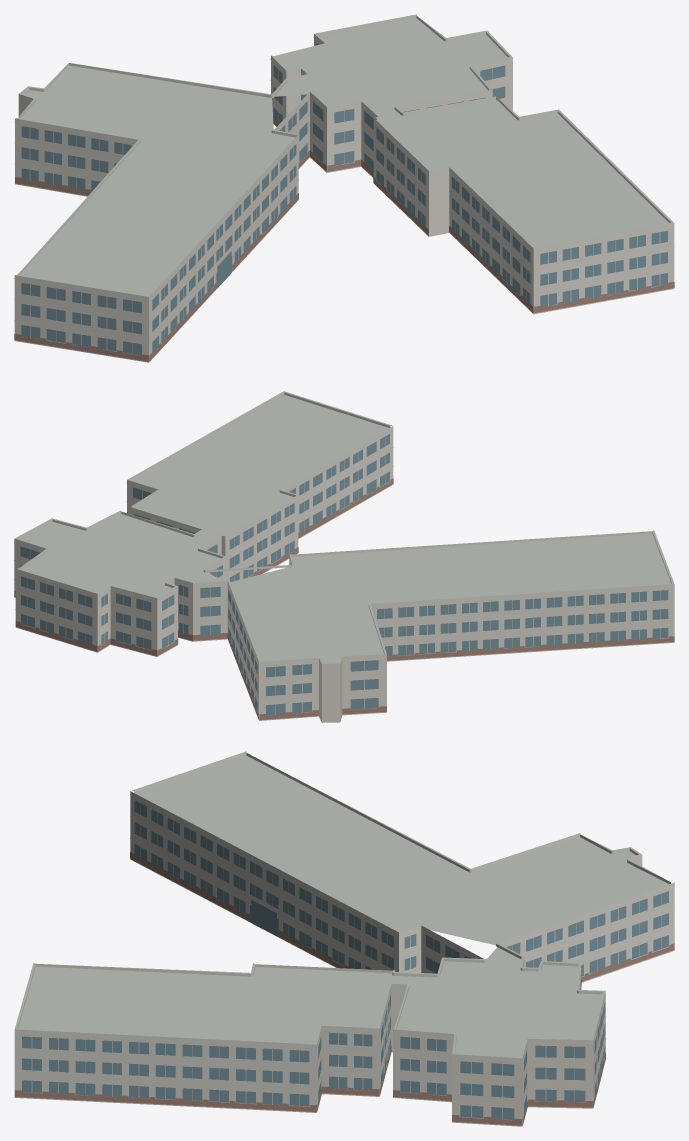
The model's file is public-58f79a30-acaa-421a-bfc8-a2db0f38cf02.glb.
3 views of the same model, one above another, from view 1: azimuth 30°, elevation 25°; view 2: azimuth 150°, elevation 25°; view 3: azimuth 270°, elevation 25° (orthographic). The views are drawn at different scales.
Parts seen in each view (by area): view 1: public-58f79a30-acaa-421a-bfc8-a2db0f38cf02; view 2: public-58f79a30-acaa-421a-bfc8-a2db0f38cf02; view 3: public-58f79a30-acaa-421a-bfc8-a2db0f38cf02.
Part boxes in pixels (left/top/right/bottom): public-58f79a30-acaa-421a-bfc8-a2db0f38cf02: left=14, top=14, right=674, bottom=362; public-58f79a30-acaa-421a-bfc8-a2db0f38cf02: left=14, top=391, right=674, bottom=722; public-58f79a30-acaa-421a-bfc8-a2db0f38cf02: left=14, top=751, right=674, bottom=1126.
Size of the model in its own units: 88.2 by 9.15 by 80.1.
